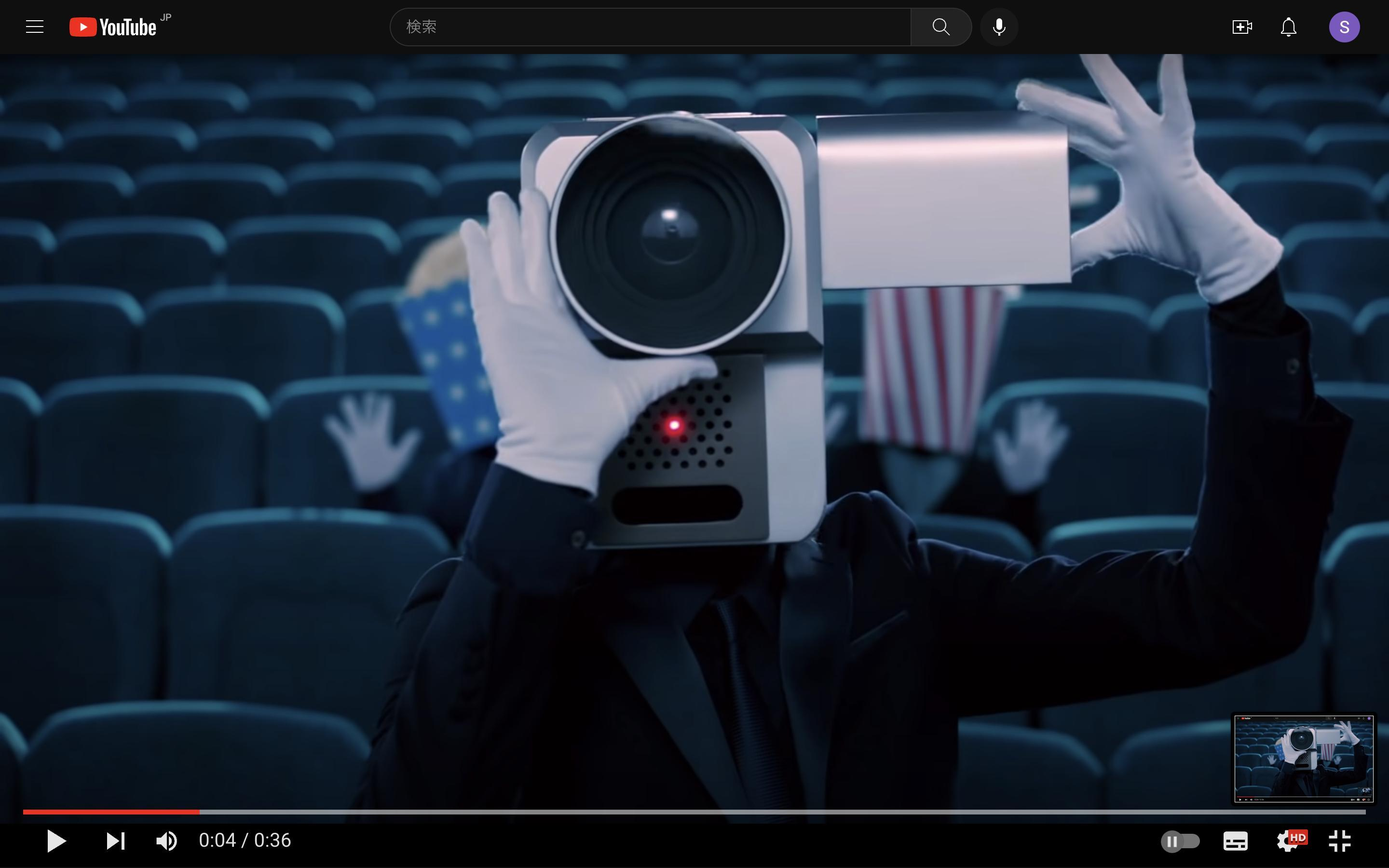no more kid: (519, 118, 1076, 546)
